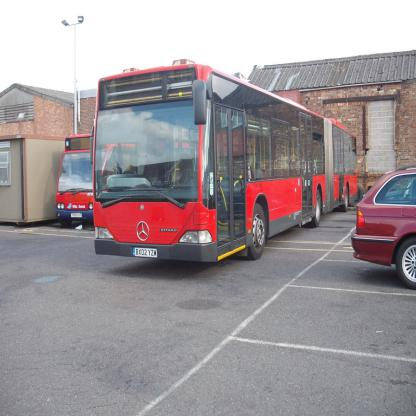Bus: (87, 60, 356, 267), (55, 130, 199, 228)
